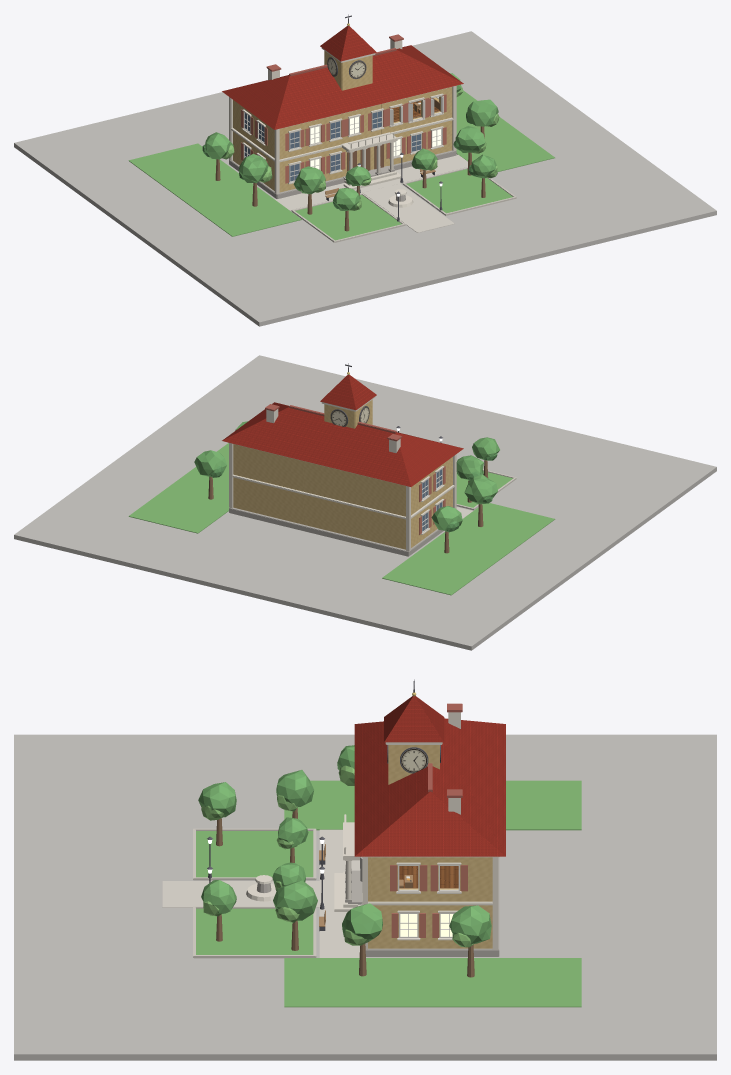
Rendered from school.glb.
The picture shows the model from 3 angles, top to bottom: view 1: azimuth 30°, elevation 25°; view 2: azimuth 150°, elevation 25°; view 3: azimuth 270°, elevation 25°; orthographic projection. The views are drawn at different scales.
Parts seen in each view (by area): view 1: Ground_Base, School_MainRoof, Lawn_WestSide, School_WestBlock, Lawn_EastSide, Lawn_Right, Lawn_Left, Walkway_Main, Walkway_Cross, ClockTower_Roof, School_EastF2_SouthWall, School_EastF1 (+9 smaller); view 2: Ground_Base, School_MainRoof, School_WestBlock, Lawn_WestSide, Lawn_EastSide, School_EastF1, School_EastF2_NorthWall, School_Foundation, ClockTower_Roof, Belt_Floor2, TreeLeaf_6_A, TreeLeaf_9_A (+4 smaller); view 3: Ground_Base, School_MainRoof, Lawn_EastSide, Lawn_WestSide, Lawn_Right, Lawn_Left, School_EastF2_EastWall, Walkway_Cross, School_EastF1, ClockTower_Roof, Walkway_Main, School_Foundation (+11 smaller).
Boxes of the visible parts, x1,y1,x2,y2 form: Ground_Base: (14,31,716,326); School_MainRoof: (222,45,463,129); Lawn_WestSide: (128,143,301,236); School_WestBlock: (233,100,381,192); Lawn_EastSide: (456,90,554,171); Lawn_Right: (406,169,512,213); Lawn_Left: (295,194,401,240); Walkway_Main: (363,183,454,232); Walkway_Cross: (275,154,467,210); ClockTower_Roof: (320,26,376,61); School_EastF2_SouthWall: (381,87,452,133); School_EastF1: (384,117,452,166); Ground_Base: (14,355,716,650); School_MainRoof: (222,402,463,486); School_WestBlock: (304,457,452,549); Lawn_WestSide: (382,503,555,595); Lawn_EastSide: (128,443,229,533); School_EastF1: (233,474,303,524); School_EastF2_NorthWall: (233,444,303,491); School_Foundation: (229,507,443,556); ClockTower_Roof: (320,374,376,410); Belt_Floor2: (232,474,454,519); TreeLeaf_6_A: (464,474,497,504); TreeLeaf_9_A: (194,450,226,476); Ground_Base: (14,734,716,1060); School_MainRoof: (354,718,505,856); Lawn_EastSide: (284,958,581,1007); Lawn_WestSide: (284,780,581,830); Lawn_Right: (196,908,313,954); Lawn_Left: (196,831,313,877); School_EastF2_EastWall: (368,857,492,900); Walkway_Cross: (319,829,361,957); School_EastF1: (368,901,492,948); ClockTower_Roof: (384,696,444,742); Walkway_Main: (162,881,319,907); School_Foundation: (361,857,499,956).
Bounding box in the file's own units: 56 × 18.05 × 52.
Materials: 36 (7 with a texture image).
